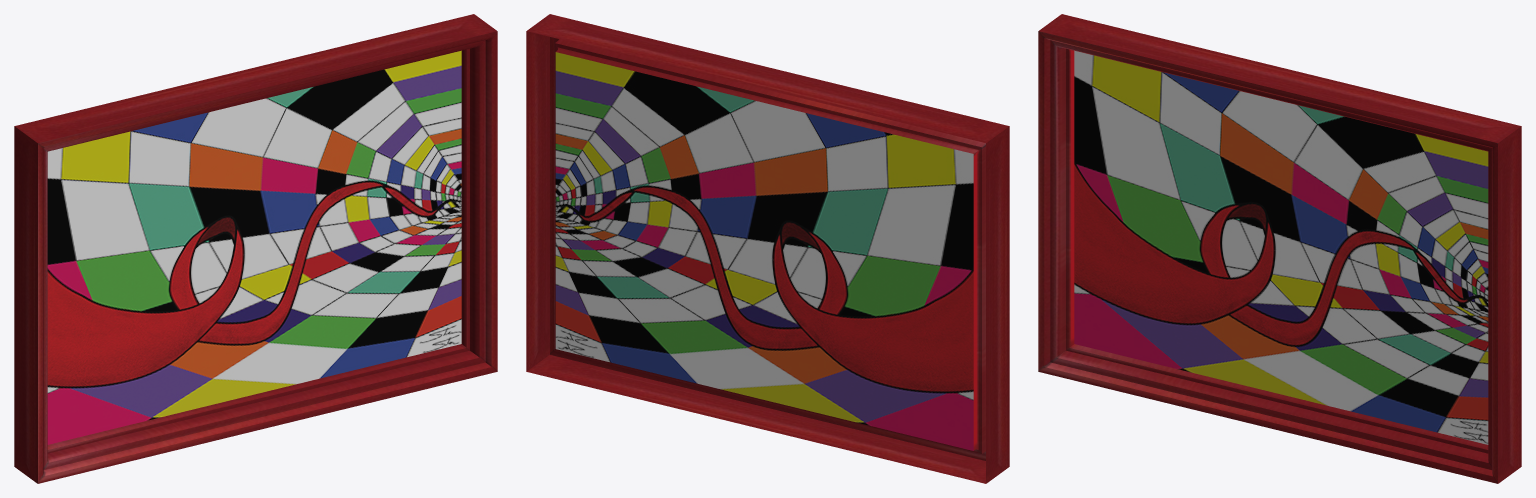
The model's file is RoomArt3.FBX.
3 views of the same model, side by side, from view 1: azimuth 30°, elevation 25°; view 2: azimuth 150°, elevation 25°; view 3: azimuth 330°, elevation 25° (orthographic).
Visible parts, largest first — view 1: Box001; view 2: Box001; view 3: Box001.
Part boxes in pixels (x1,y1,x2,y2): Box001: (14,14,497,483); Box001: (526,14,1009,483); Box001: (1038,14,1521,483).
Size of the model in its own units: 99.25 by 70.3 by 8.74.
